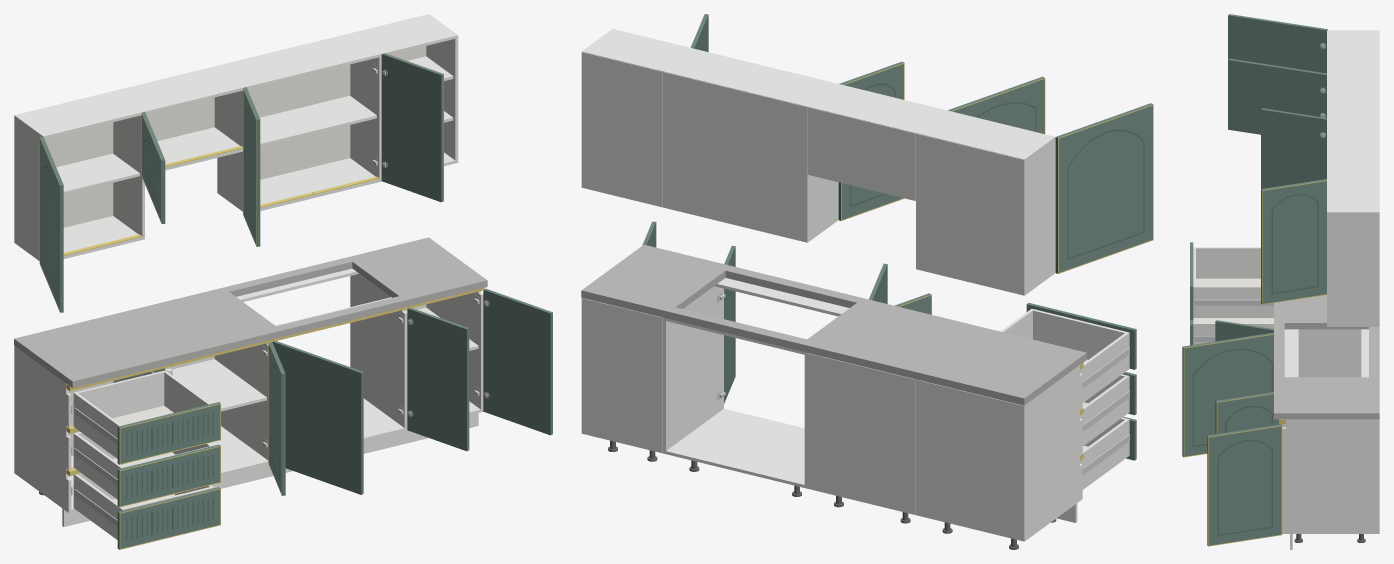
File: kitchen_decor_open.glb
3 views of the same model, side by side, from view 1: azimuth 30°, elevation 25°; view 2: azimuth 150°, elevation 25°; view 3: azimuth 270°, elevation 25° (orthographic). The views are drawn at different scales.
Parts seen in each view (by area): view 1: 49:countertop, 32:base[1].doors.door[1], 47:base[3].doors.door[1], 70:wall[2].doors.door[2], 39:base[2].doors.door[2], 1:base[0].side.left, 67:wall[2].back, 34:base[2].side.right, 66:wall[2].top, 54:wall[0].back, 24:base[0].fill[0].drawer[3].front, 23:base[0].fill[0].drawer[2].front (+35 smaller); view 2: 49:countertop, 67:wall[2].back, 54:wall[0].back, 6:base[0].back, 30:base[1].back, 56:wall[0].doors.door[1], 75:wall[3].back, 45:base[3].back, 1:base[0].side.left, 61:wall[1].back, 34:base[2].side.right, 35:base[2].bottom (+16 smaller); view 3: 41:base[3].side.right, 47:base[3].doors.door[1], 70:wall[2].doors.door[2], 49:countertop, 32:base[1].doors.door[1], 72:wall[3].side.right, 56:wall[0].doors.door[1], 62:wall[1].doors.door[1], 69:wall[2].doors.door[1], 33:base[2].side.left, 66:wall[2].top, 53:wall[0].top (+19 smaller).
Boxes of the visible parts, x1,y1,x2,y2 form: 49:countertop: [14, 237, 487, 388]; 32:base[1].doors.door[1]: [272, 341, 363, 494]; 47:base[3].doors.door[1]: [483, 288, 552, 435]; 70:wall[2].doors.door[2]: [381, 53, 443, 202]; 39:base[2].doors.door[2]: [407, 308, 469, 451]; 1:base[0].side.left: [14, 346, 71, 512]; 67:wall[2].back: [249, 64, 350, 179]; 34:base[2].side.right: [350, 273, 407, 430]; 66:wall[2].top: [220, 33, 379, 88]; 54:wall[0].back: [46, 122, 113, 227]; 24:base[0].fill[0].drawer[3].front: [117, 402, 220, 464]; 23:base[0].fill[0].drawer[2].front: [117, 444, 220, 506]; 49:countertop: [581, 244, 1086, 405]; 67:wall[2].back: [663, 72, 807, 242]; 54:wall[0].back: [916, 133, 1024, 295]; 6:base[0].back: [916, 379, 1024, 541]; 30:base[1].back: [807, 353, 915, 514]; 56:wall[0].doors.door[1]: [1055, 103, 1152, 273]; 75:wall[3].back: [581, 52, 662, 207]; 45:base[3].back: [581, 298, 662, 452]; 1:base[0].side.left: [1024, 365, 1082, 541]; 61:wall[1].back: [807, 107, 915, 200]; 34:base[2].side.right: [663, 286, 723, 453]; 35:base[2].bottom: [666, 408, 804, 487]; 41:base[3].side.right: [1282, 419, 1378, 533]; 47:base[3].doors.door[1]: [1207, 424, 1281, 545]; 70:wall[2].doors.door[2]: [1261, 179, 1326, 304]; 49:countertop: [1274, 295, 1379, 419]; 32:base[1].doors.door[1]: [1182, 332, 1273, 456]; 72:wall[3].side.right: [1327, 211, 1378, 326]; 56:wall[0].doors.door[1]: [1228, 14, 1327, 134]; 62:wall[1].doors.door[1]: [1228, 58, 1326, 121]; 69:wall[2].doors.door[1]: [1261, 108, 1326, 188]; 33:base[2].side.left: [1298, 329, 1361, 377]; 66:wall[2].top: [1327, 120, 1378, 177]; 53:wall[0].top: [1327, 31, 1378, 73].
Size of the model in its own units: 2.84 by 2.12 by 1.12.
